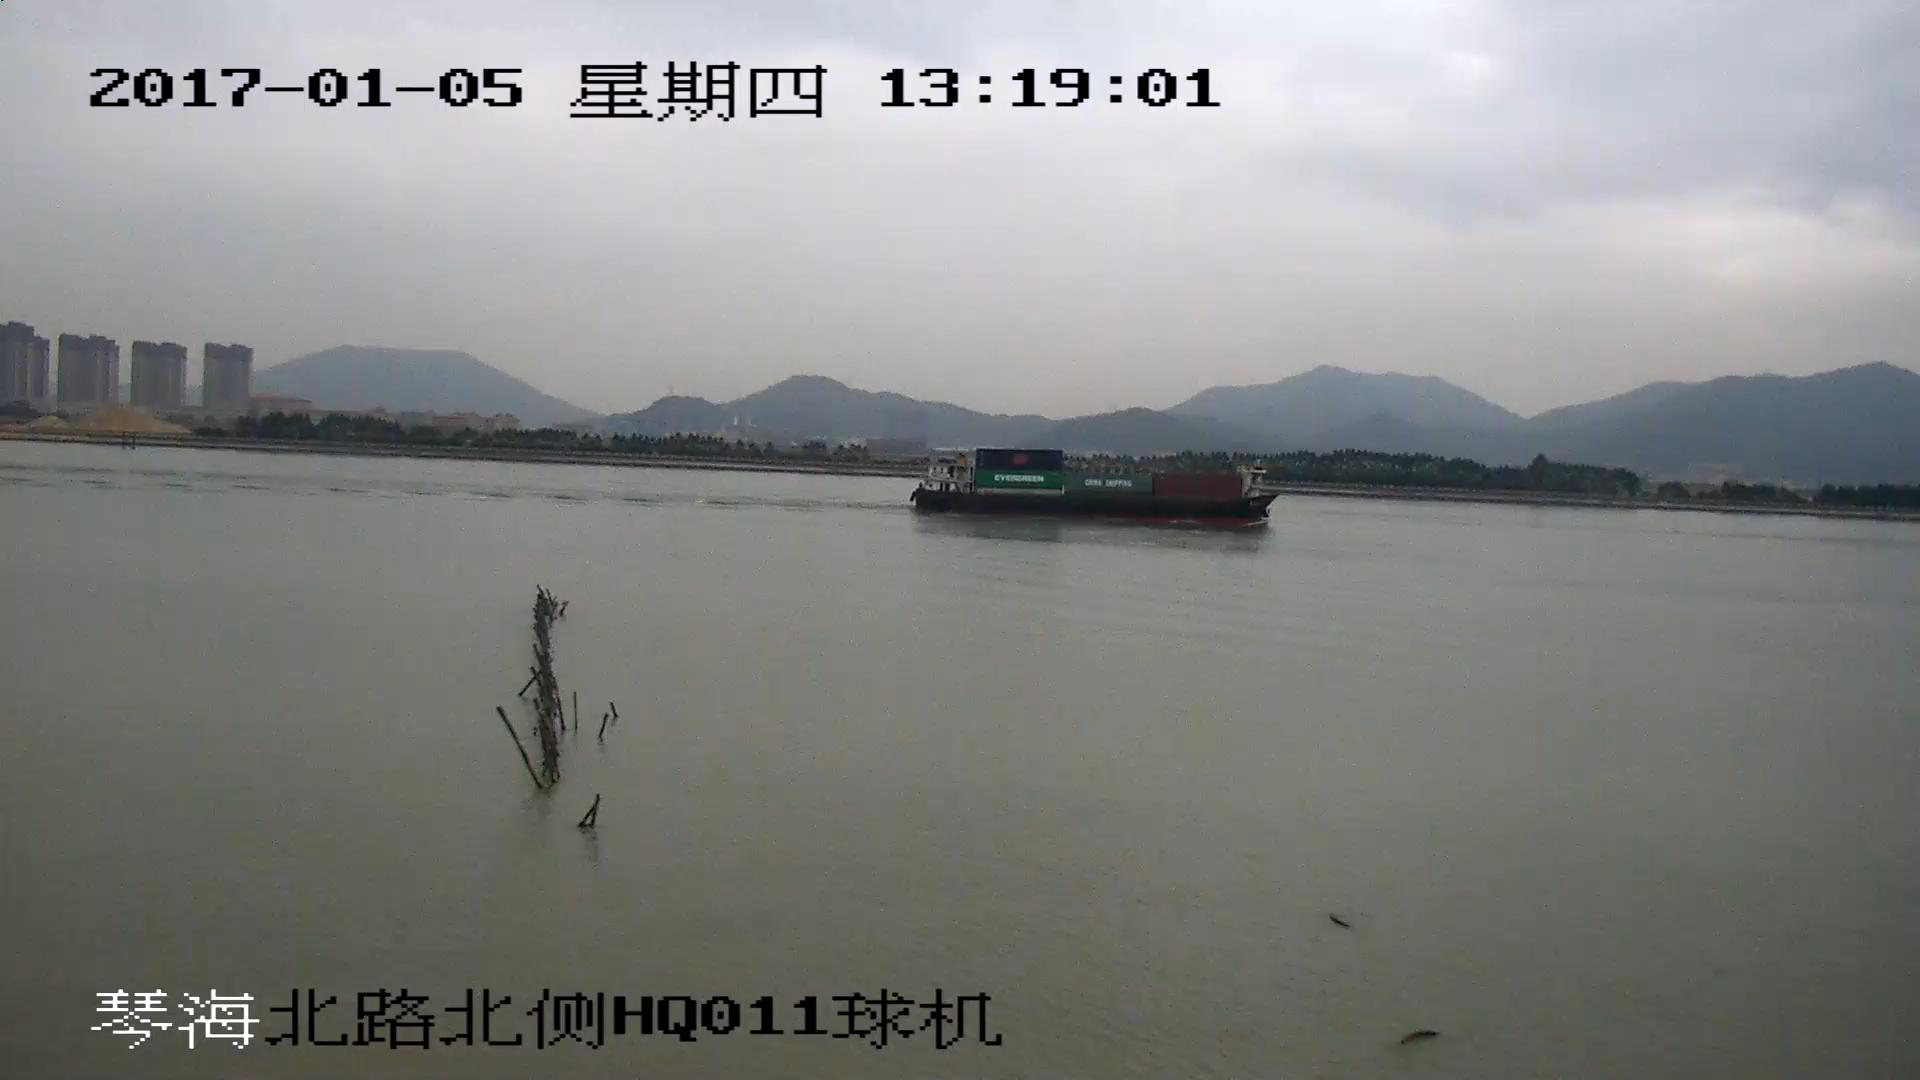container ship: (909, 448, 1272, 521)
